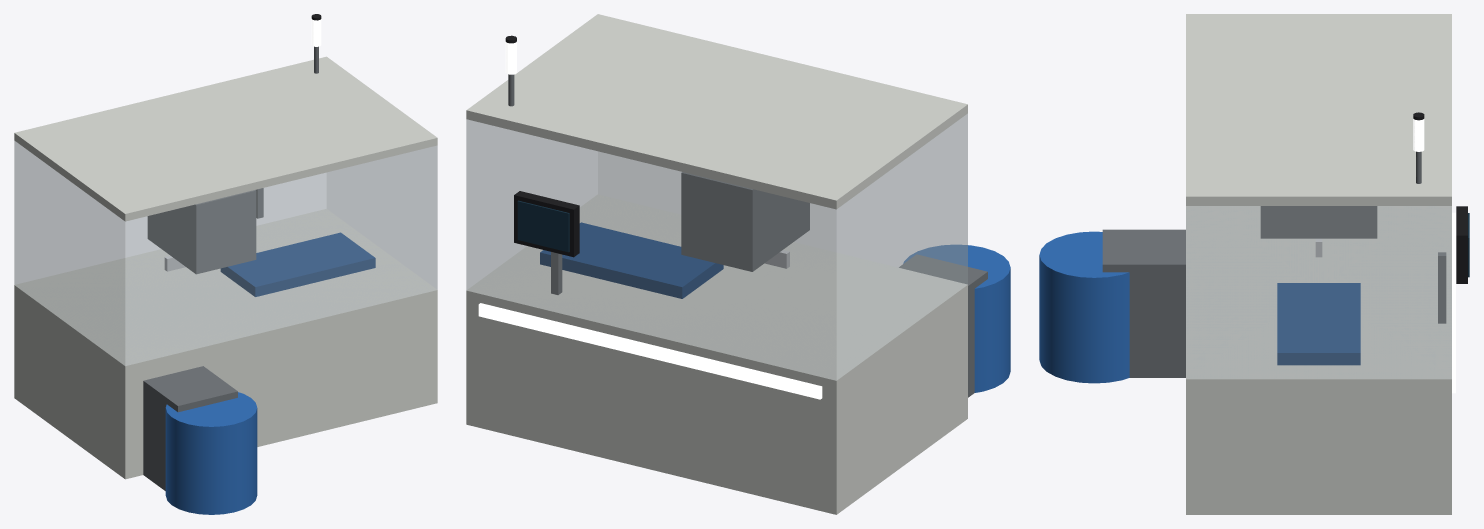
The model's file is degate.glb.
The picture shows the model from 3 angles, left to right: view 1: azimuth 30°, elevation 25°; view 2: azimuth 150°, elevation 25°; view 3: azimuth 270°, elevation 25°; orthographic projection. The views are drawn at different scales.
Visible parts, largest first — view 1: body, spin; view 2: body, spin, status_band; view 3: body, spin, status_band.
Part boxes in pixels (left/top/right/bottom): body: left=14, top=14, right=437, bottom=514; spin: left=147, top=190, right=256, bottom=274; body: left=466, top=14, right=1010, bottom=514; spin: left=681, top=172, right=809, bottom=271; status_band: left=478, top=303, right=822, bottom=399; body: left=1039, top=14, right=1469, bottom=514; spin: left=1260, top=206, right=1377, bottom=257; status_band: left=1452, top=212, right=1455, bottom=393.
Size of the model in its own units: 2.6 by 2.56 by 2.58.
